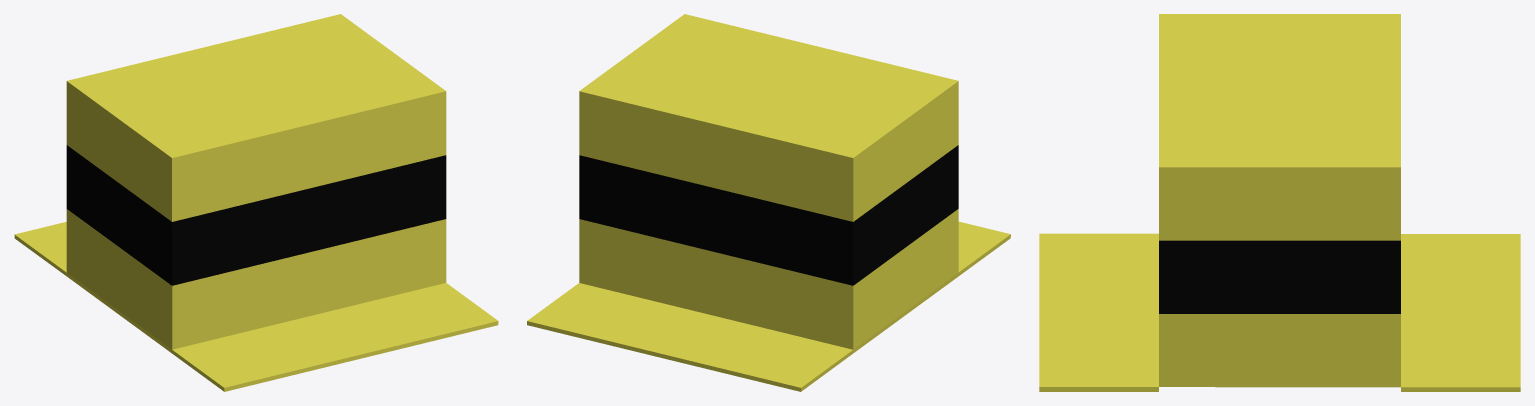
Rendered from carton.glb.
3 renders of one model, left to right at view 1: azimuth 30°, elevation 25°; view 2: azimuth 150°, elevation 25°; view 3: azimuth 270°, elevation 25°, orthographic. The views are drawn at different scales.
Parts seen in each view (by area): view 1: Cube002, Cube002_1; view 2: Cube002, Cube002_1; view 3: Cube002, Cube002_1.
Part boxes in pixels (bbox=[...]): Cube002: bbox=[14, 14, 498, 391]; Cube002_1: bbox=[66, 145, 446, 285]; Cube002: bbox=[527, 14, 1010, 391]; Cube002_1: bbox=[579, 145, 958, 285]; Cube002: bbox=[1039, 14, 1520, 391]; Cube002_1: bbox=[1159, 240, 1400, 313].
Size of the model in its own units: 3 by 2.05 by 3.98.
